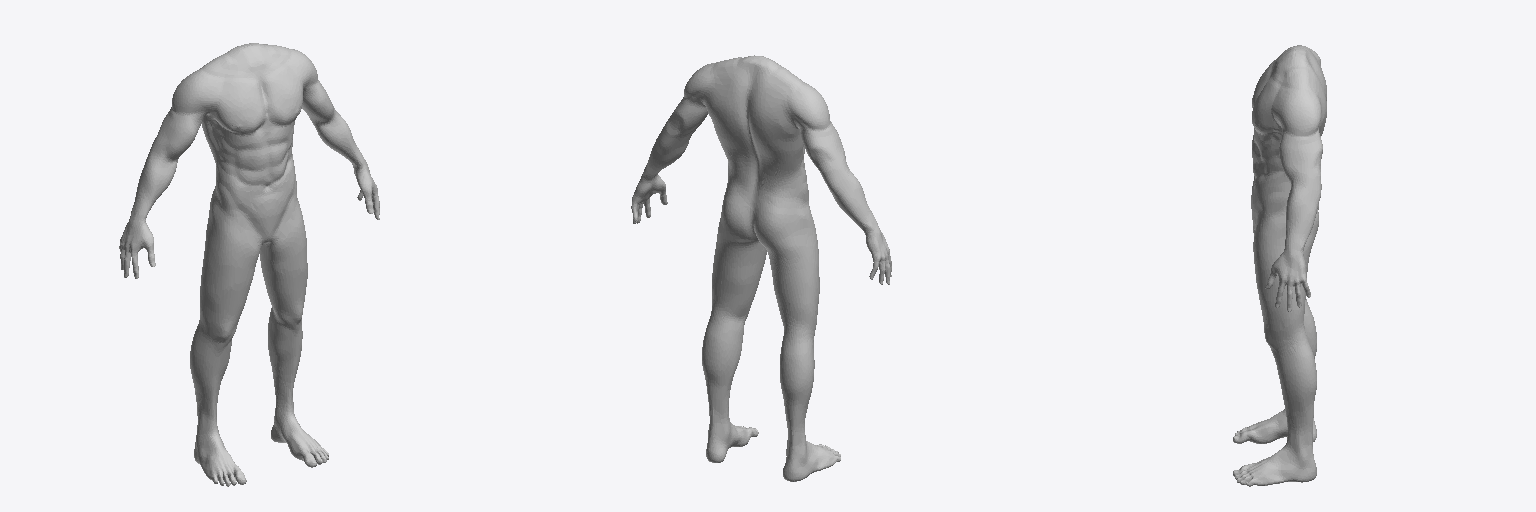
Rendered from Thug02_body.OBJ.
3 renders of one model, left to right at view 1: azimuth 30°, elevation 25°; view 2: azimuth 150°, elevation 25°; view 3: azimuth 270°, elevation 25°, orthographic.
Visible parts, largest first — view 1: Group61338; view 2: Group61338; view 3: Group61338.
Part boxes in pixels (x1,y1,x2,y2): Group61338: (119,43,379,486); Group61338: (631,55,891,481); Group61338: (1233,45,1326,486).
Bounding box in the file's own units: 10.72 × 16.52 × 3.45.